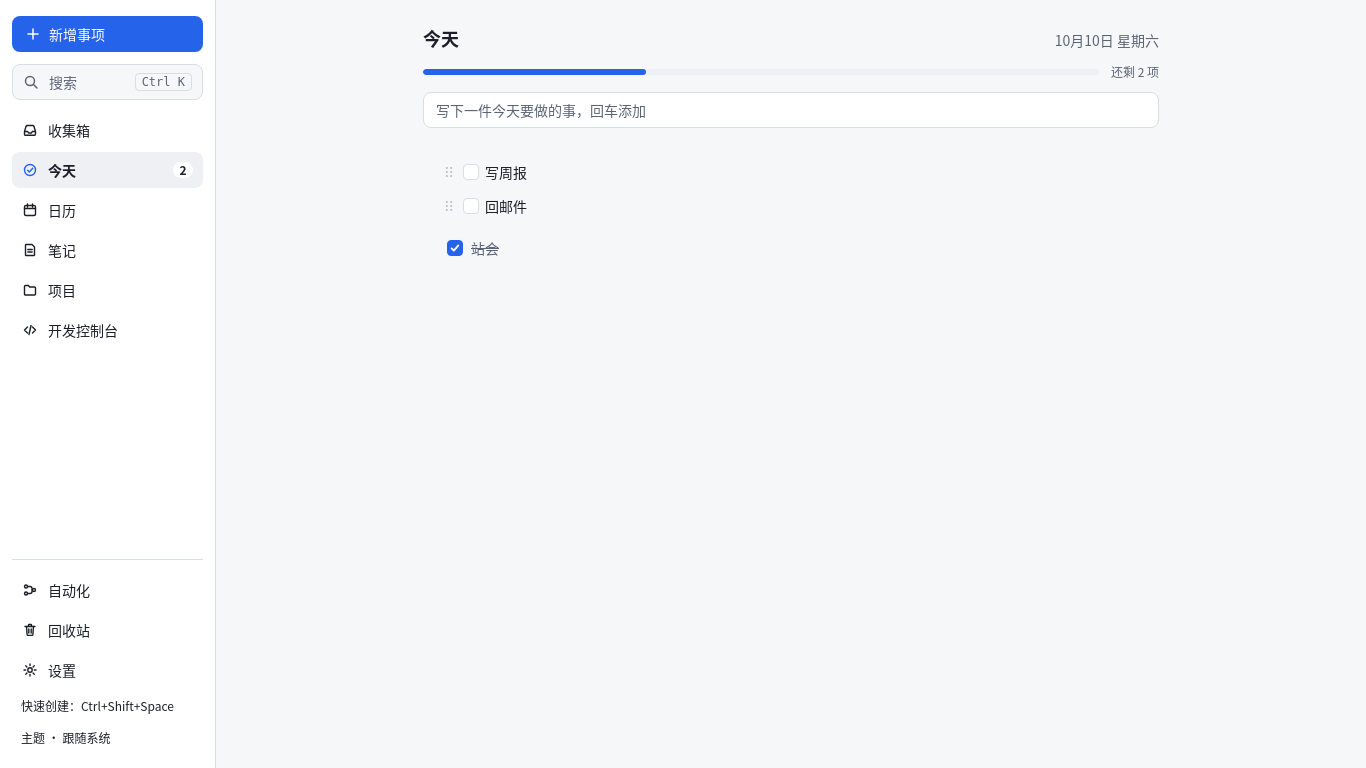
Test: MainShell › 切换到别的视图再切回 Today，内容仍在
Expected: the button "写周报" is shown, top-left (485, 162), bottom-right (1113, 182)
Click the button "日历" at (108, 210), box top-left (12, 192), bottom-right (203, 228)
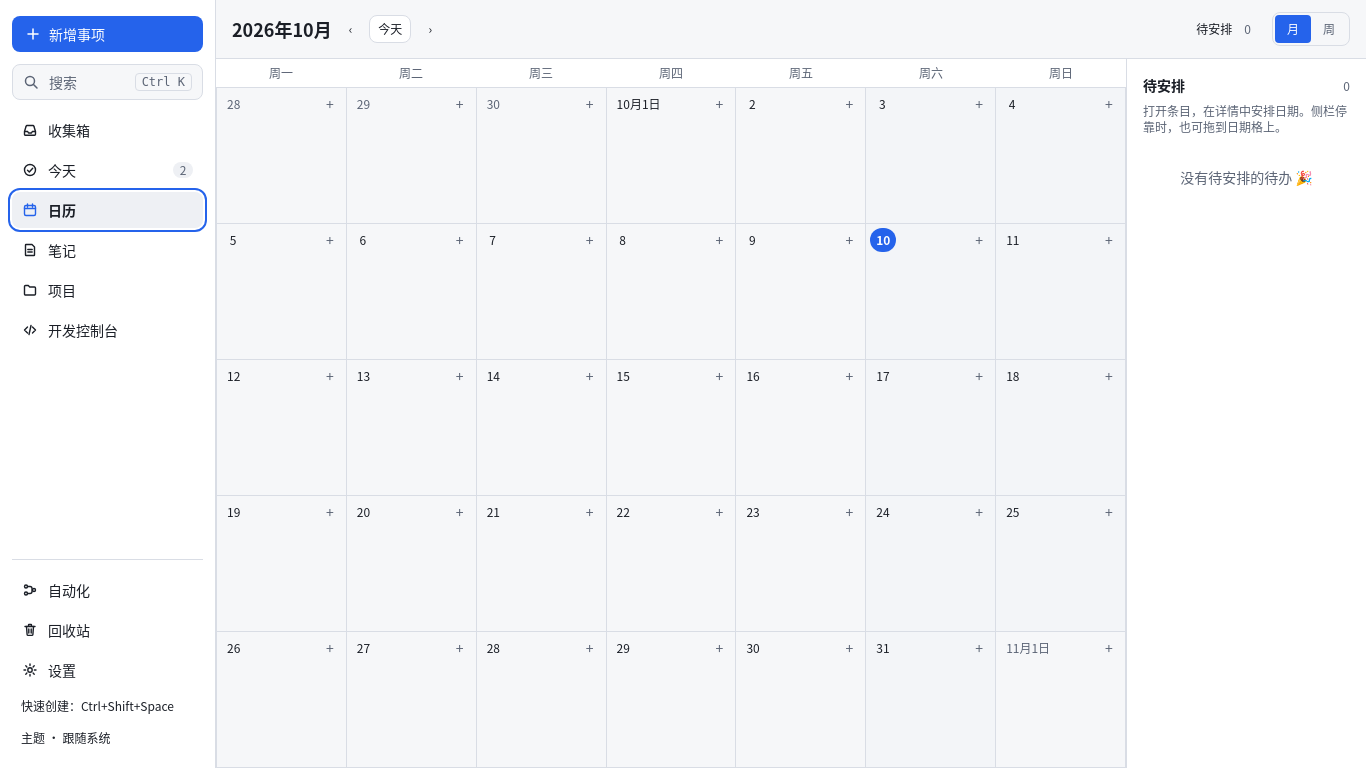
Expected: the element named "日历" is shown
Expected: the button "写周报" is gone
Click the button "今天 2" at (108, 170), box top-left (12, 152), bottom-right (203, 188)
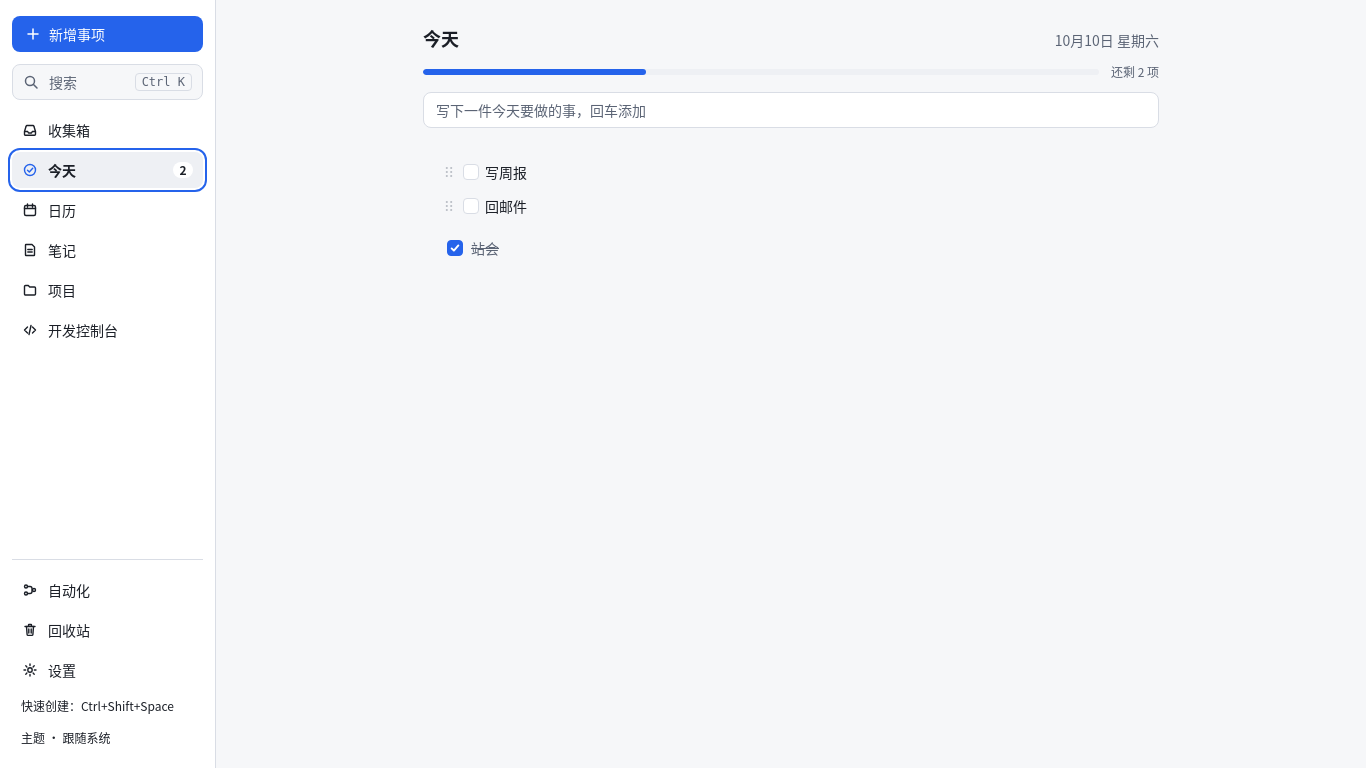
Expected: the button "写周报" is shown, top-left (485, 162), bottom-right (1113, 182)
